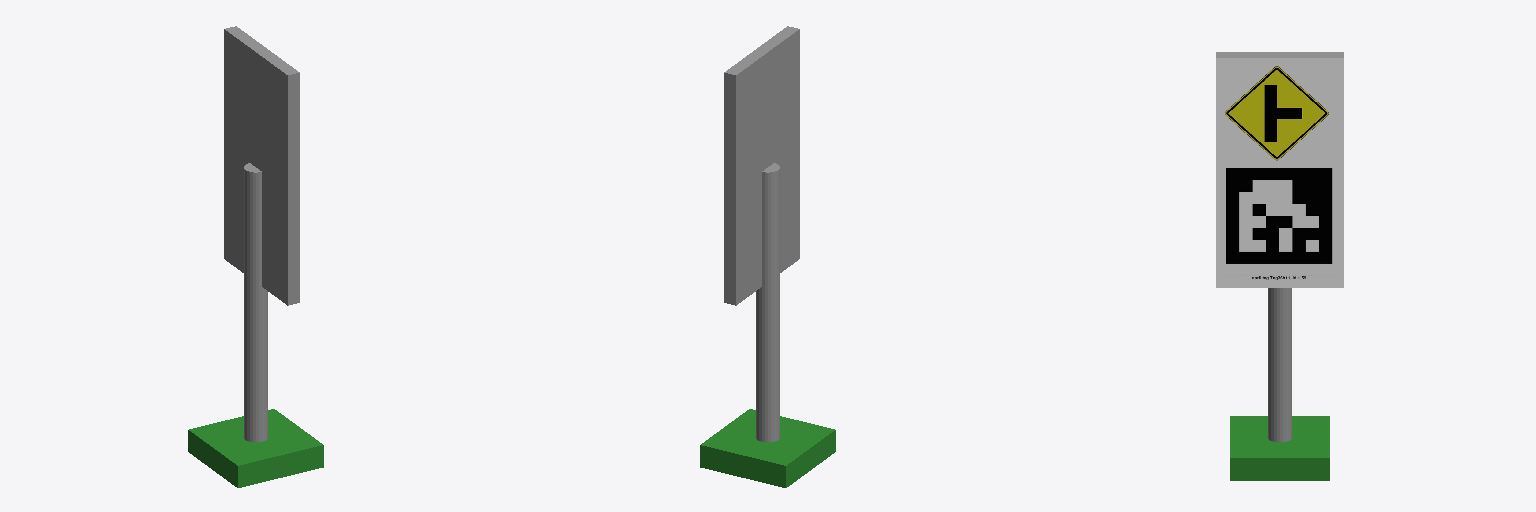
3 renders of one model, left to right at view 1: azimuth 30°, elevation 25°; view 2: azimuth 150°, elevation 25°; view 3: azimuth 270°, elevation 25°, orthographic.
Parts seen in each view (by area): view 1: SketchUp.002_ID23, SketchUp_ID2, SketchUp.001_ID10; view 2: SketchUp.002_ID23, SketchUp_ID2, SketchUp.001_ID10; view 3: SketchUp.003_ID31, SketchUp_ID2, SketchUp.001_ID10, SketchUp.002_ID23.
Boxes of the visible parts, <box> form: SketchUp.002_ID23: <box>224,26,299,305</box>; SketchUp_ID2: <box>188,409,323,487</box>; SketchUp.001_ID10: <box>244,163,267,441</box>; SketchUp.002_ID23: <box>724,26,799,305</box>; SketchUp_ID2: <box>700,409,835,487</box>; SketchUp.001_ID10: <box>756,163,779,441</box>; SketchUp.003_ID31: <box>1216,58,1343,287</box>; SketchUp_ID2: <box>1230,416,1329,480</box>; SketchUp.001_ID10: <box>1268,288,1291,441</box>; SketchUp.002_ID23: <box>1216,52,1343,57</box>.
Bounding box in the file's own units: 0.0508 × 0.2301 × 0.065.
3 materials, 1 textured.